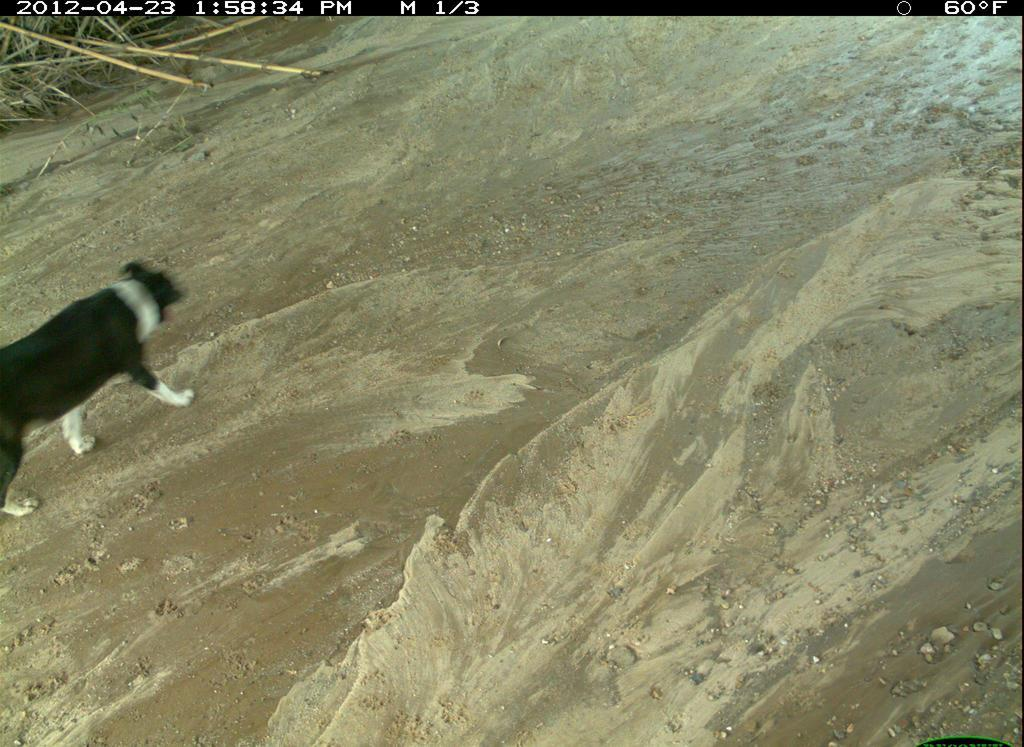dog: (1, 518, 400, 747)
